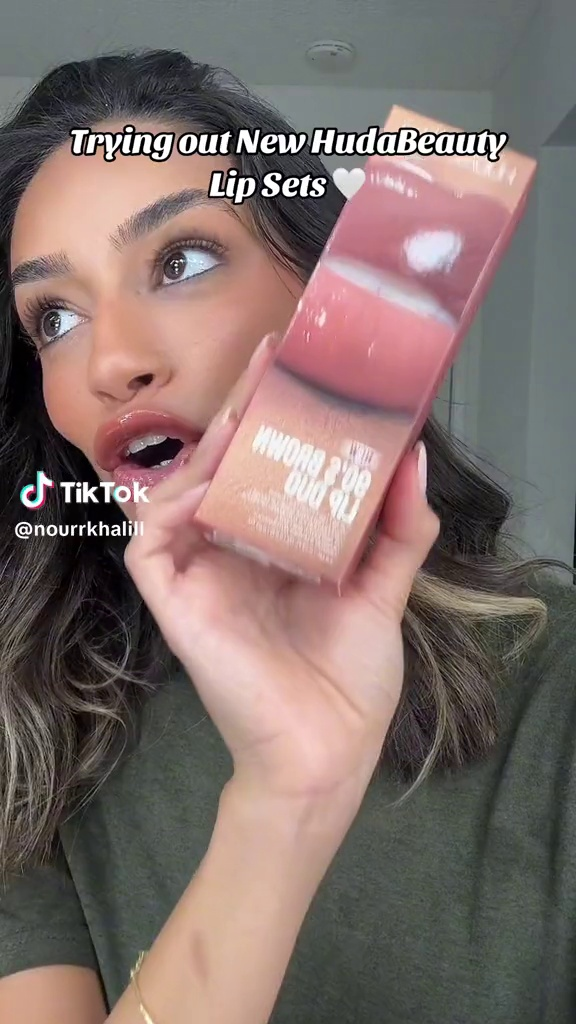train' :'yolo_data/train/images',: (183, 85, 547, 594)
